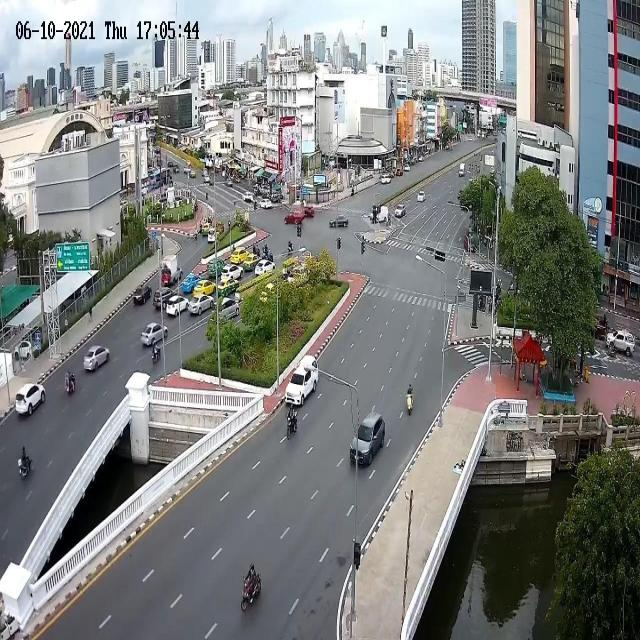Car: (348, 411, 386, 466), (13, 381, 48, 415), (604, 328, 636, 356), (81, 343, 111, 370), (139, 322, 171, 346), (215, 294, 240, 324), (187, 294, 214, 316), (153, 290, 178, 312), (165, 295, 189, 317), (132, 282, 153, 306), (182, 270, 203, 292), (192, 279, 217, 297), (220, 264, 243, 283), (254, 260, 277, 279), (207, 257, 226, 278), (230, 248, 250, 264), (328, 213, 349, 227), (243, 254, 260, 271), (283, 213, 303, 226), (395, 204, 406, 219), (258, 199, 274, 208), (416, 189, 426, 203), (188, 170, 198, 178)
Cycle: (240, 558, 264, 614), (17, 444, 36, 480), (286, 404, 298, 439), (405, 382, 416, 415), (64, 368, 76, 397), (152, 339, 161, 367), (606, 338, 618, 356)
Truck: (160, 253, 184, 284), (458, 160, 466, 176)
Van: (283, 352, 320, 409), (208, 226, 216, 243)
